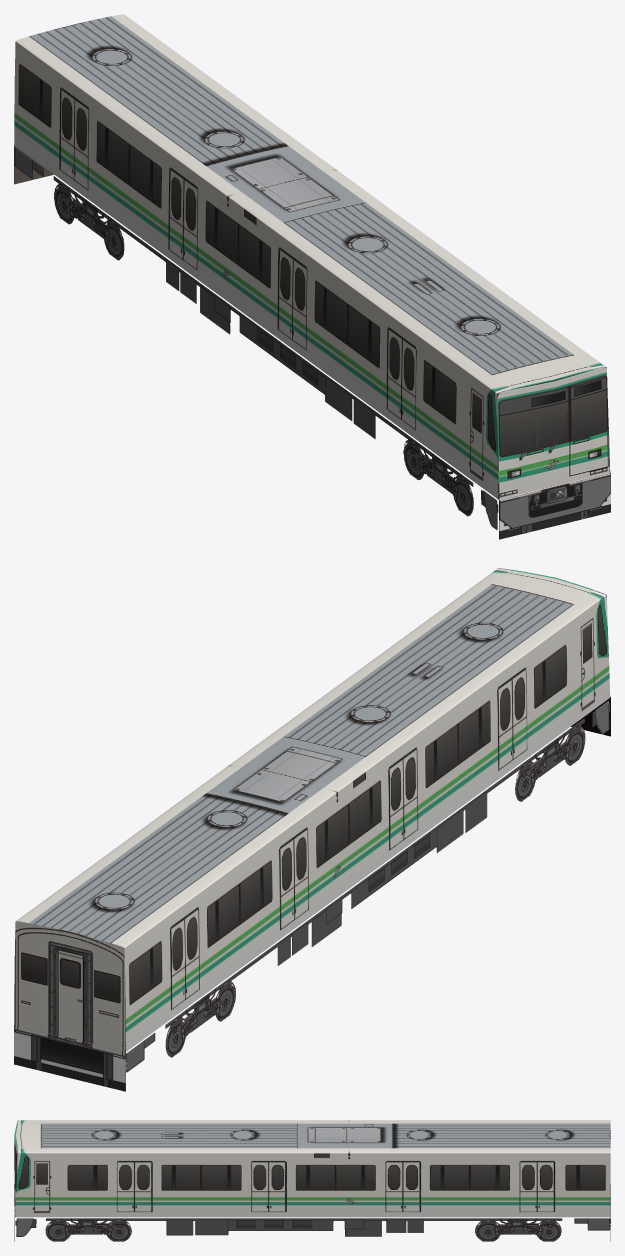
File: car1.glb
3 renders of one model, top to bottom at view 1: azimuth 30°, elevation 25°; view 2: azimuth 150°, elevation 25°; view 3: azimuth 270°, elevation 25°, orthographic. The views are drawn at different scales.
Visible parts, largest first — view 1: car1.glb; view 2: car1.glb; view 3: car1.glb.
Boxes of the visible parts, x1,y1,x2,y2 form: car1.glb: (14,14,610,539); car1.glb: (14,568,610,1091); car1.glb: (14,1120,610,1241).
Bounding box in the file's own units: 2.89 × 3.6 × 21.78.
Materials: 7 (6 with a texture image).
